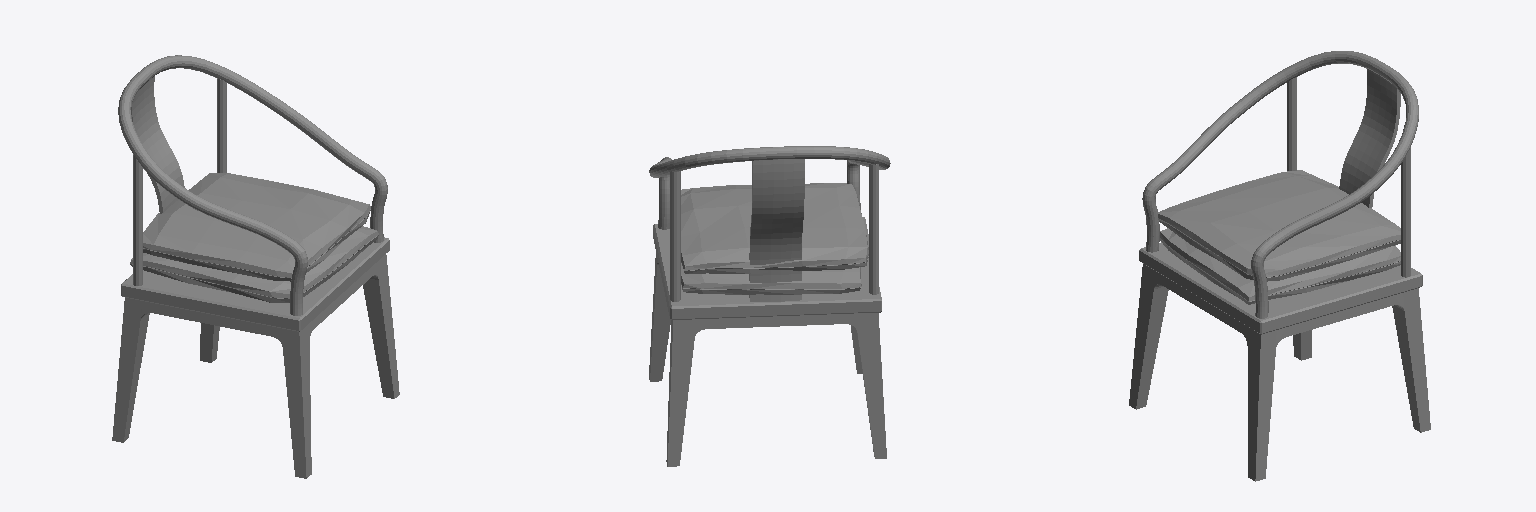
File: yizi.obj
The picture shows the model from 3 angles: view 1: azimuth 30°, elevation 25°; view 2: azimuth 150°, elevation 25°; view 3: azimuth 270°, elevation 25°; orthographic projection.
Parts seen in each view (by area): view 1: Box03; view 2: Box03; view 3: Box03.
Boxes of the visible parts, box(x1,y1,x2,y2) form: Box03: box(112, 55, 399, 478); Box03: box(649, 146, 890, 466); Box03: box(1129, 51, 1430, 481).
Size of the model in its own units: 33.6 by 39.47 by 33.45.